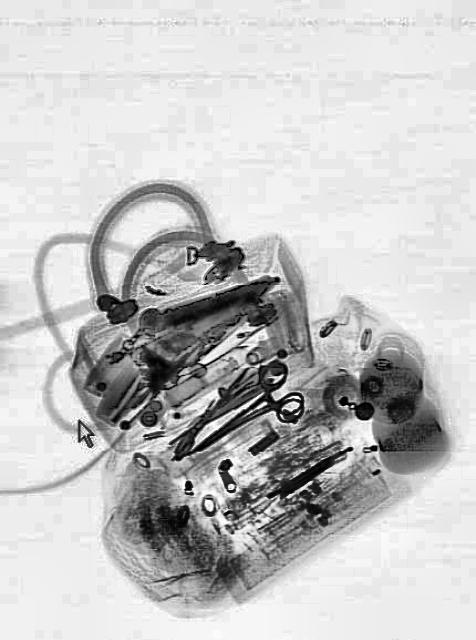Scissors: (177, 351, 309, 481)
